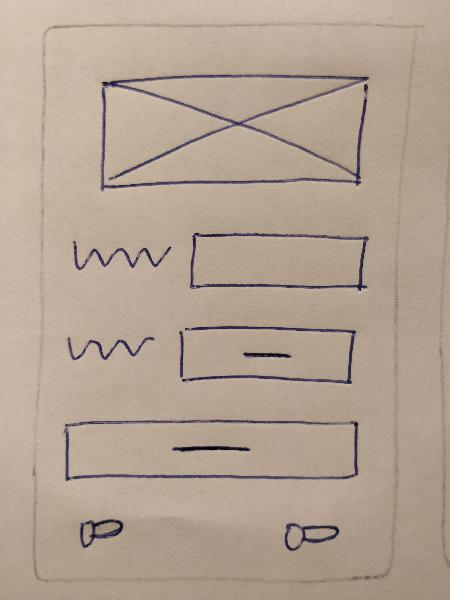button: (54, 413, 365, 486), (176, 322, 356, 393)
image: (96, 69, 374, 200)
switch: (72, 512, 132, 557), (281, 515, 341, 560)
text: (59, 232, 179, 283), (52, 321, 172, 372)
text_input: (184, 225, 378, 298)
